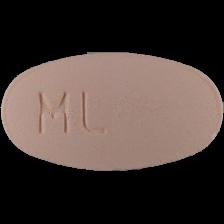33342-057: (0, 0, 224, 224)
